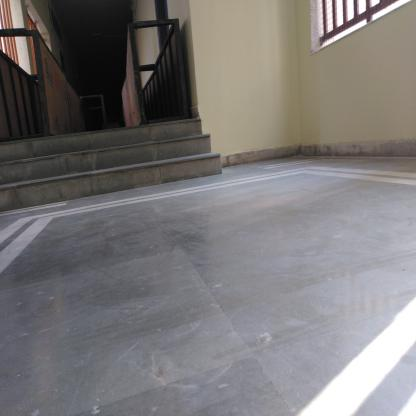stairs: (16, 128, 200, 189)
